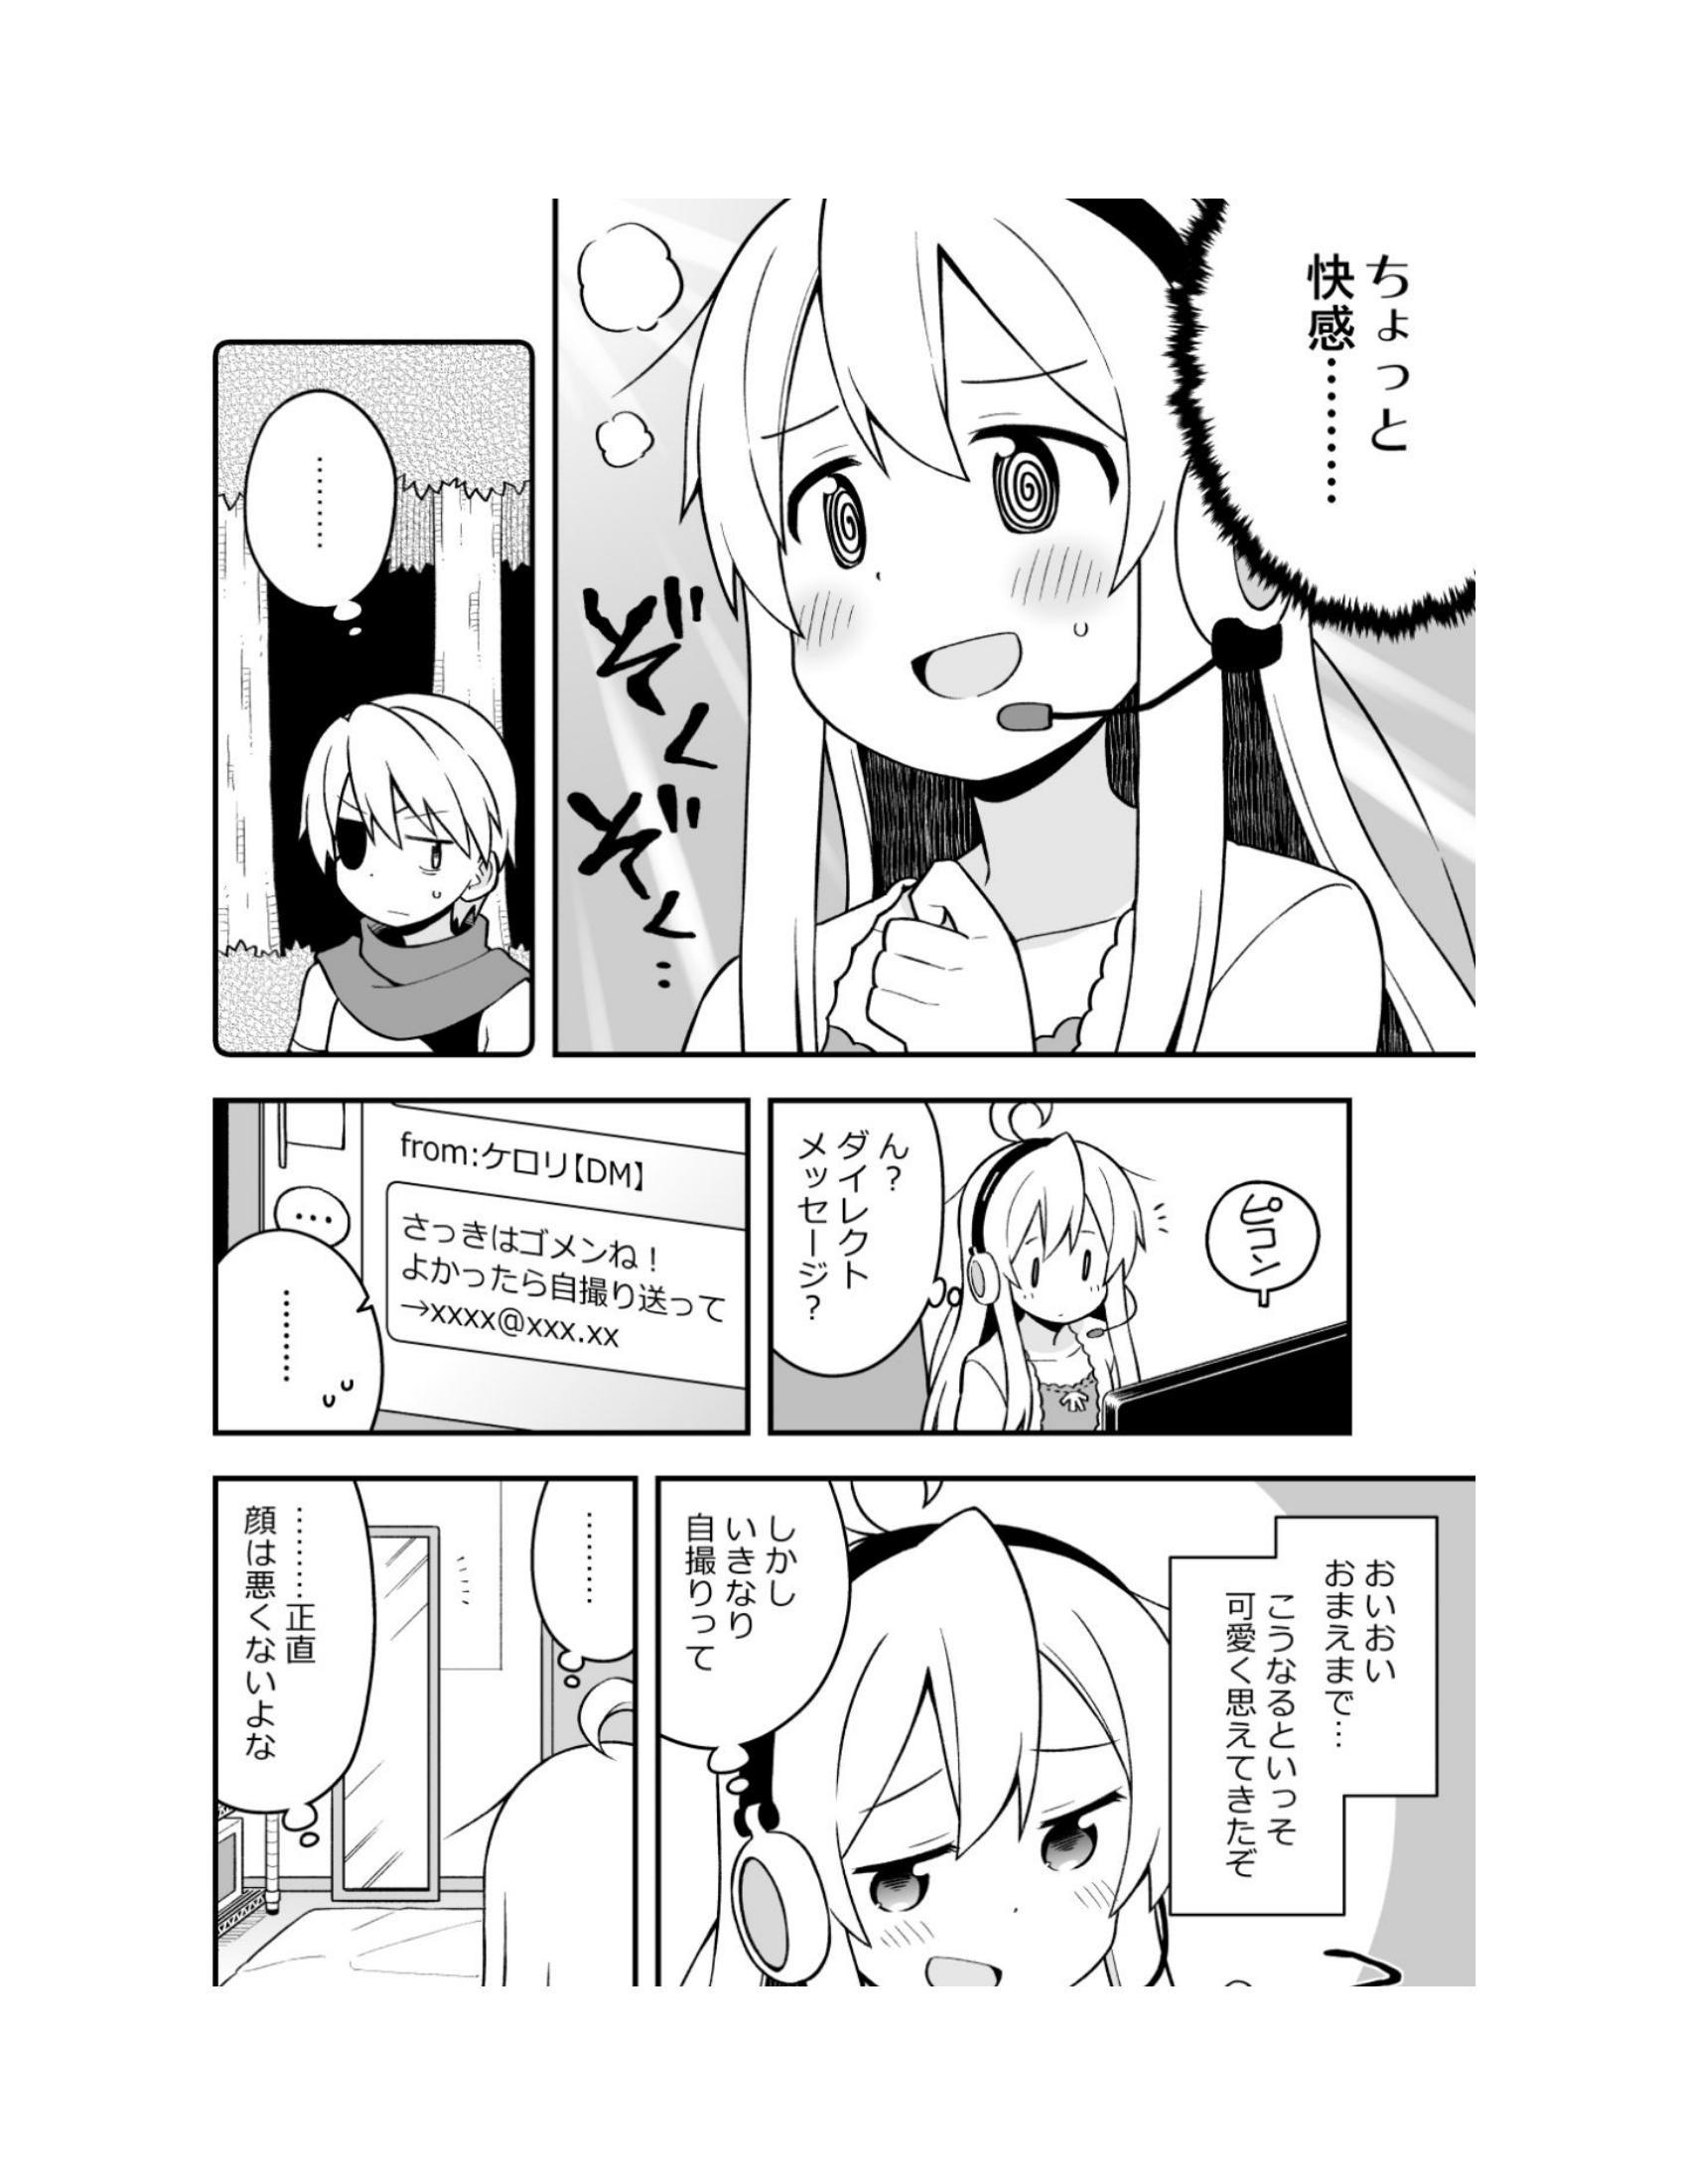a: (1190, 213, 1516, 636), (1153, 1517, 1452, 1945), (200, 1468, 410, 1810), (661, 1431, 887, 1734), (770, 1097, 950, 1370), (1190, 1181, 1351, 1326)
